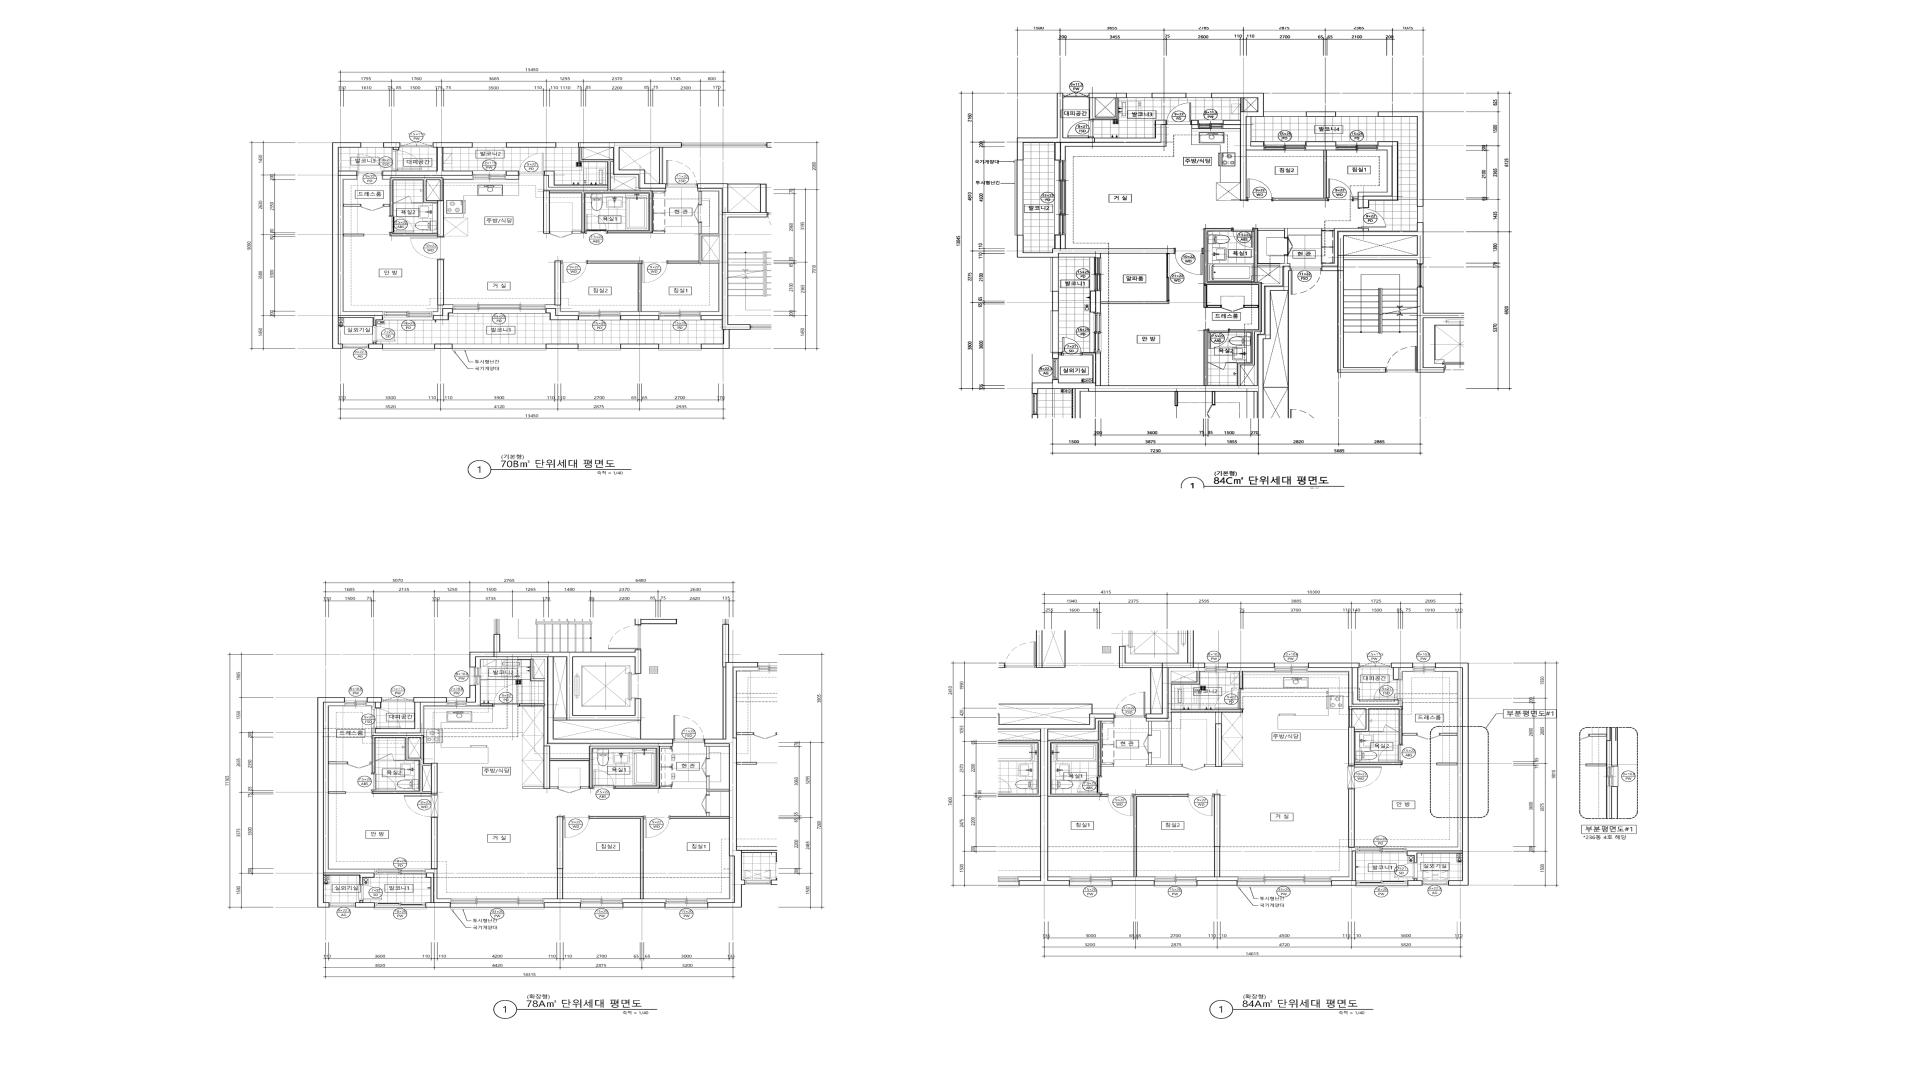door: (1290, 267, 1322, 295), (666, 160, 697, 188), (1114, 692, 1146, 718), (608, 625, 641, 650), (410, 236, 444, 260), (673, 715, 704, 741), (404, 794, 438, 817), (1174, 249, 1204, 275), (1349, 765, 1381, 789), (371, 708, 400, 729), (392, 150, 421, 171), (643, 816, 670, 838), (1107, 794, 1134, 816), (1327, 179, 1354, 201), (1246, 179, 1273, 201), (1215, 689, 1243, 710), (1374, 680, 1403, 700), (563, 816, 589, 838), (493, 684, 519, 706), (1188, 794, 1214, 816), (561, 261, 587, 283), (1358, 208, 1386, 228), (1166, 103, 1191, 125), (519, 153, 544, 175), (642, 261, 667, 283), (357, 154, 382, 176), (1067, 119, 1094, 138), (1232, 228, 1255, 248), (592, 770, 615, 789), (1207, 330, 1230, 349), (372, 773, 396, 791), (1077, 776, 1101, 794), (1378, 745, 1403, 762), (585, 214, 607, 233), (390, 216, 414, 233), (1061, 337, 1082, 356), (1395, 863, 1417, 879), (373, 326, 395, 342), (359, 885, 382, 900), (1208, 362, 1237, 370), (1166, 253, 1170, 301), (1284, 236, 1293, 256), (1143, 735, 1152, 753), (693, 205, 702, 223), (1221, 305, 1244, 312), (549, 231, 572, 238), (558, 786, 580, 793), (361, 204, 383, 211), (393, 196, 412, 204), (701, 758, 709, 776), (701, 795, 709, 813), (347, 762, 370, 768), (1417, 733, 1440, 739), (376, 754, 394, 761), (1182, 765, 1205, 770), (1383, 725, 1399, 732)
wall: (1032, 266, 1290, 419), (470, 634, 673, 744), (670, 624, 742, 908), (476, 657, 673, 758), (1322, 222, 1424, 373), (1407, 663, 1469, 886), (1204, 228, 1290, 386), (543, 142, 682, 234), (1040, 714, 1114, 886), (317, 697, 375, 908), (697, 184, 768, 349), (332, 142, 383, 349), (1407, 668, 1462, 851), (1017, 93, 1166, 160), (1146, 668, 1243, 767), (324, 702, 374, 873), (1119, 646, 1205, 719), (339, 176, 383, 316), (1211, 93, 1264, 201), (543, 746, 660, 789), (1134, 794, 1188, 877), (589, 816, 643, 899), (1378, 112, 1424, 207), (1417, 287, 1464, 373), (372, 735, 437, 794), (1308, 663, 1399, 704), (1017, 235, 1174, 258), (1308, 668, 1403, 706), (1349, 706, 1403, 766), (697, 189, 722, 315), (390, 178, 444, 236), (382, 142, 472, 176), (1273, 150, 1327, 201), (587, 261, 642, 311), (1358, 141, 1398, 208), (375, 697, 447, 733), (1263, 291, 1289, 388), (371, 702, 447, 735), (611, 162, 666, 191), (1322, 228, 1363, 266), (1344, 236, 1417, 255), (708, 856, 734, 903), (543, 176, 607, 191), (426, 873, 451, 908), (1048, 719, 1114, 732), (426, 869, 451, 903), (1332, 851, 1356, 886), (1332, 847, 1356, 881), (1089, 98, 1118, 120), (1214, 794, 1220, 877), (557, 816, 563, 899), (706, 776, 729, 795), (702, 236, 719, 261), (1257, 266, 1280, 284), (546, 308, 578, 320), (1171, 671, 1200, 684), (1391, 663, 1413, 680), (431, 817, 438, 869), (382, 176, 472, 180), (1349, 789, 1355, 848), (704, 744, 729, 758), (530, 659, 545, 681), (546, 305, 578, 315), (466, 685, 481, 706), (554, 261, 561, 306), (437, 260, 444, 305), (1215, 724, 1222, 767), (506, 142, 556, 148), (1352, 709, 1366, 729), (426, 180, 440, 200), (1306, 141, 1336, 150), (635, 619, 677, 625), (1090, 291, 1101, 313), (1227, 663, 1275, 668), (408, 738, 420, 758), (433, 308, 453, 320), (623, 903, 665, 908), (1112, 881, 1154, 886), (1101, 301, 1169, 304), (1197, 881, 1237, 886), (433, 305, 453, 315), (620, 315, 659, 320), (1227, 668, 1275, 672), (621, 344, 659, 349), (1089, 93, 1127, 98), (466, 685, 476, 703), (544, 903, 580, 908), (1152, 93, 1186, 98), (623, 899, 665, 903), (1112, 877, 1154, 881), (1399, 668, 1413, 680), (1204, 330, 1207, 386), (367, 697, 382, 708), (1197, 877, 1237, 881), (546, 344, 578, 349), (620, 311, 659, 315), (355, 900, 374, 908), (1306, 112, 1336, 117), (544, 899, 580, 903), (1052, 291, 1059, 311), (383, 142, 400, 150), (659, 148, 662, 184), (1408, 879, 1423, 886), (368, 342, 382, 349), (667, 261, 699, 264), (434, 344, 452, 349), (1048, 877, 1070, 881), (506, 171, 519, 176), (1191, 120, 1198, 129), (1222, 764, 1243, 767), (522, 786, 543, 789), (1240, 98, 1244, 112), (1240, 671, 1243, 689), (519, 704, 545, 706), (506, 176, 519, 180), (1052, 352, 1059, 359), (1150, 668, 1151, 714), (1403, 733, 1417, 736), (367, 703, 375, 708), (660, 786, 671, 789), (728, 184, 760, 185), (580, 786, 589, 789), (480, 704, 493, 706), (553, 718, 566, 720), (1101, 765, 1114, 767), (652, 231, 665, 233), (550, 786, 558, 789), (383, 204, 390, 207), (1205, 765, 1215, 767), (572, 231, 582, 233), (640, 721, 641, 739), (1369, 731, 1383, 732), (394, 760, 405, 761), (412, 203, 422, 204), (706, 813, 709, 816), (1354, 198, 1358, 200), (1059, 352, 1061, 355), (370, 762, 372, 764)
window: (1237, 877, 1332, 887), (450, 899, 544, 909), (1054, 160, 1066, 235), (453, 305, 546, 313), (452, 344, 546, 351), (1015, 160, 1023, 235), (374, 869, 426, 878), (1090, 312, 1101, 353), (383, 311, 433, 320), (580, 899, 623, 909), (665, 899, 708, 909), (1154, 877, 1197, 887), (1070, 877, 1112, 887), (1336, 141, 1378, 150), (1264, 141, 1306, 150), (578, 311, 620, 320), (659, 311, 701, 320), (1090, 257, 1101, 291), (382, 344, 435, 351), (1050, 311, 1059, 352), (374, 903, 426, 909), (1356, 881, 1408, 887), (1356, 847, 1407, 853), (1050, 258, 1059, 292), (472, 171, 506, 180), (658, 344, 701, 351), (578, 344, 621, 351), (1275, 663, 1308, 672), (1198, 120, 1223, 129), (382, 696, 413, 703), (1336, 112, 1378, 117), (1264, 112, 1306, 117), (472, 142, 506, 148), (345, 697, 367, 706), (470, 667, 481, 685), (1413, 663, 1435, 672), (1205, 663, 1227, 672), (400, 142, 433, 148), (1360, 662, 1391, 668), (447, 697, 466, 706), (1417, 264, 1424, 287), (1063, 92, 1089, 98), (1052, 359, 1059, 380), (556, 142, 579, 148), (361, 142, 383, 148), (329, 903, 355, 908), (1186, 93, 1211, 98), (1127, 93, 1152, 98), (343, 344, 368, 349), (1417, 207, 1424, 222), (1423, 881, 1448, 885)
